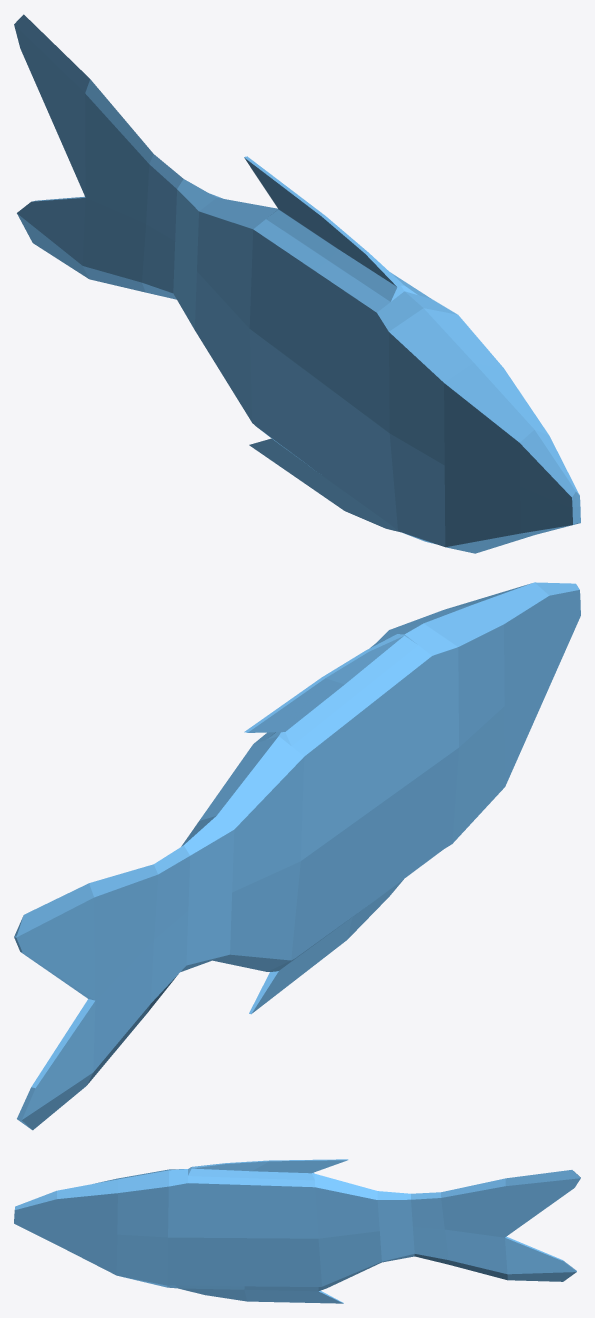
File: fish_lp_6.fbx
The picture shows the model from 3 angles, top to bottom: view 1: azimuth 30°, elevation 25°; view 2: azimuth 150°, elevation 25°; view 3: azimuth 270°, elevation 25°; orthographic projection. The views are drawn at different scales.
Parts seen in each view (by area): view 1: Fish; view 2: Fish; view 3: Fish.
Boxes of the visible parts, x1,y1,x2,y2 form: Fish: (14,14,580,553); Fish: (14,582,580,1130); Fish: (14,1159,580,1303).
Size of the model in its own units: 22.09 by 86.65 by 310.
